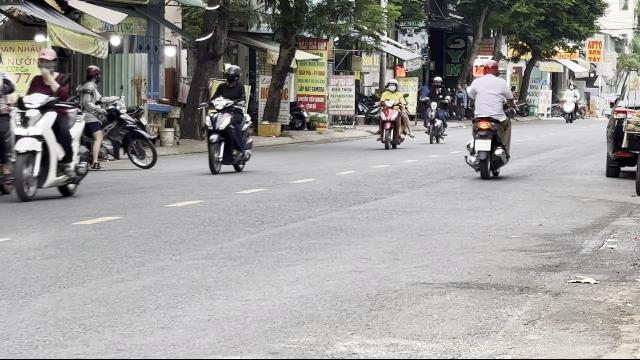helmet: (36, 48, 58, 72), (223, 64, 241, 84), (85, 65, 102, 83), (483, 59, 499, 75), (386, 78, 398, 90)
licenseplate: (475, 139, 491, 151)
motorcyclist: (7, 46, 94, 202), (70, 64, 160, 172), (463, 58, 515, 178), (200, 63, 256, 174), (374, 78, 412, 150)
